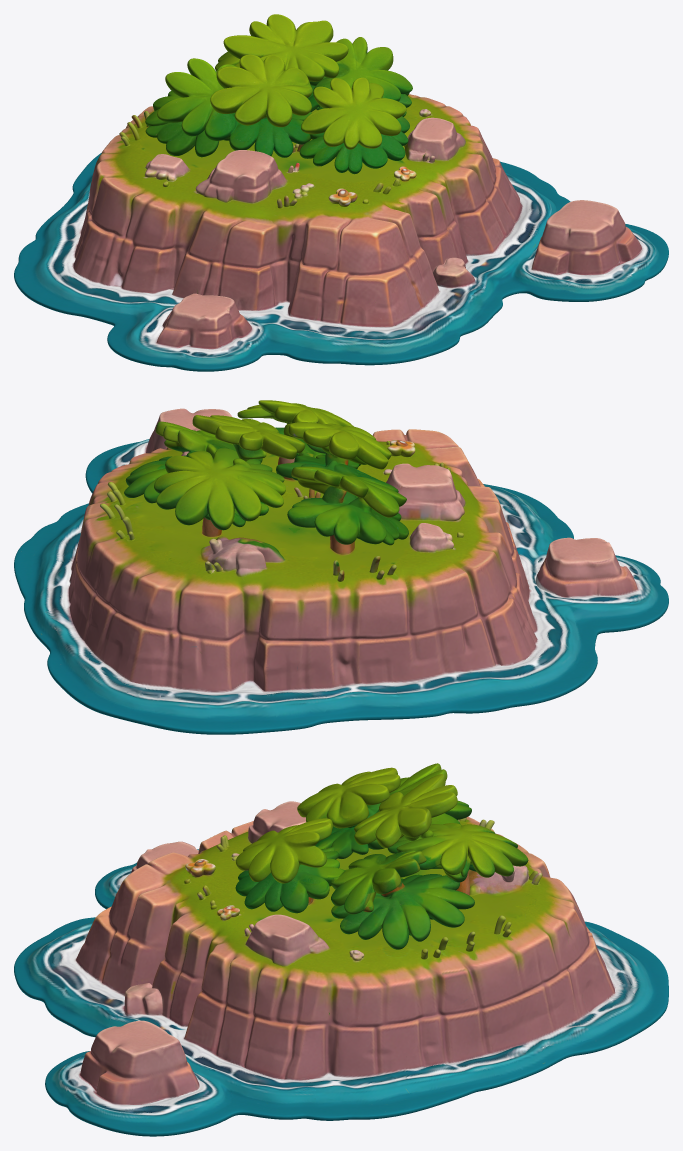
File: low-shrub-islet-01.glb
3 renders of one model, top to bottom at view 1: azimuth 30°, elevation 25°; view 2: azimuth 150°, elevation 25°; view 3: azimuth 270°, elevation 25°, orthographic. The views are drawn at different scales.
Bounding box in the file's own units: 1.9 × 0.6377 × 1.82.
1 material, 1 textured.
